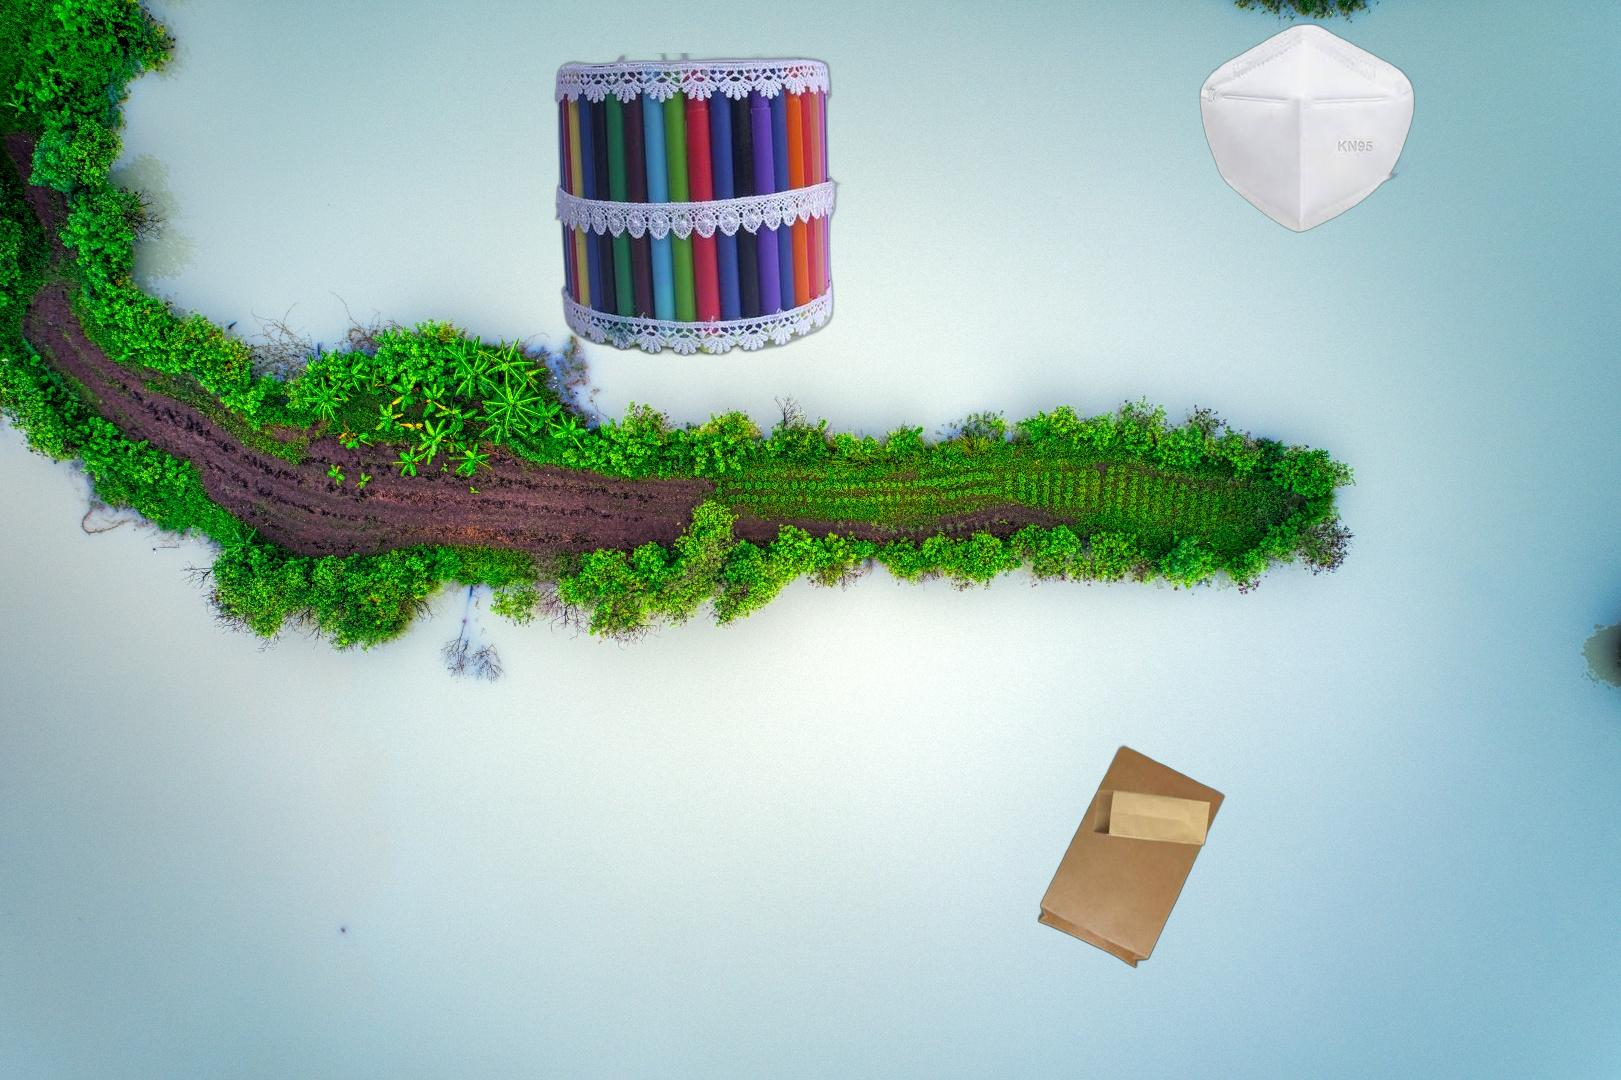paper-bag: (1035, 742, 1228, 970)
penholder: (551, 53, 844, 357)
trash: (1196, 22, 1420, 234)
